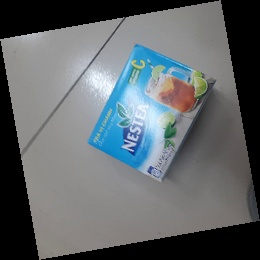Nestea: (87, 41, 219, 185)
